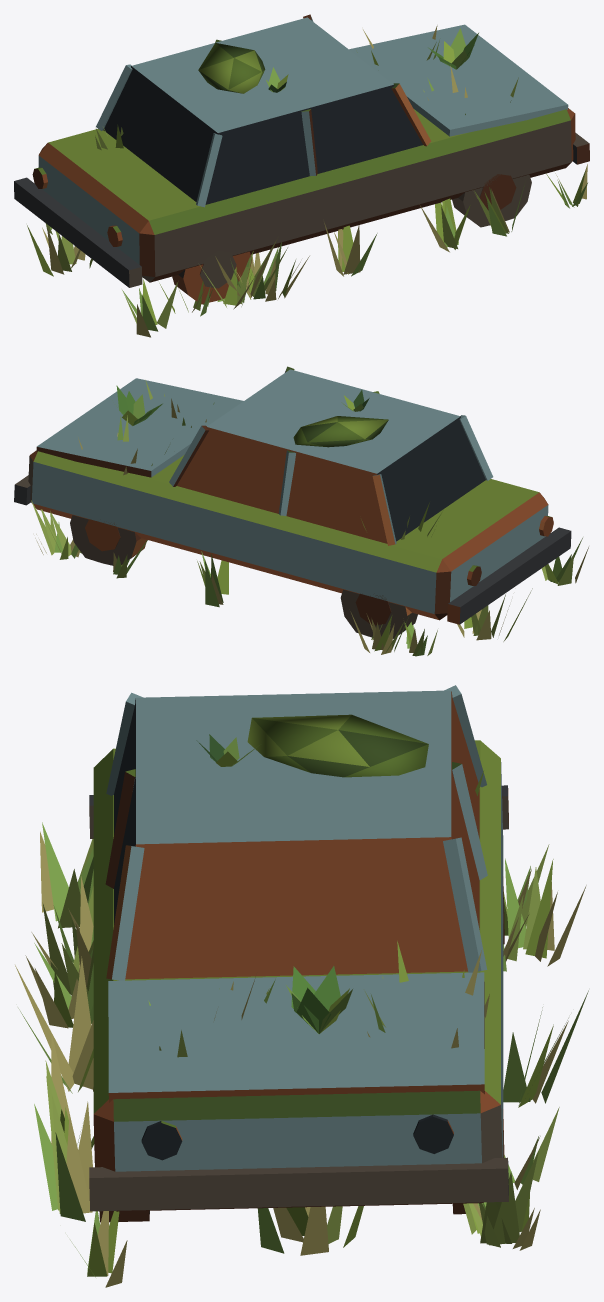
Rendered from car_wreck.glb.
3 renders of one model, top to bottom at view 1: azimuth 30°, elevation 25°; view 2: azimuth 150°, elevation 25°; view 3: azimuth 270°, elevation 25°, orthographic. The views are drawn at different scales.
Parts seen in each view (by area): view 1: wreck; view 2: wreck; view 3: wreck.
Part boxes in pixels (x1,y1,x2,y2): wreck: (14,14,589,337); wreck: (14,366,588,656); wreck: (15,685,588,1287).
Bounding box in the file's own units: 4.66 × 1.62 × 2.54.
